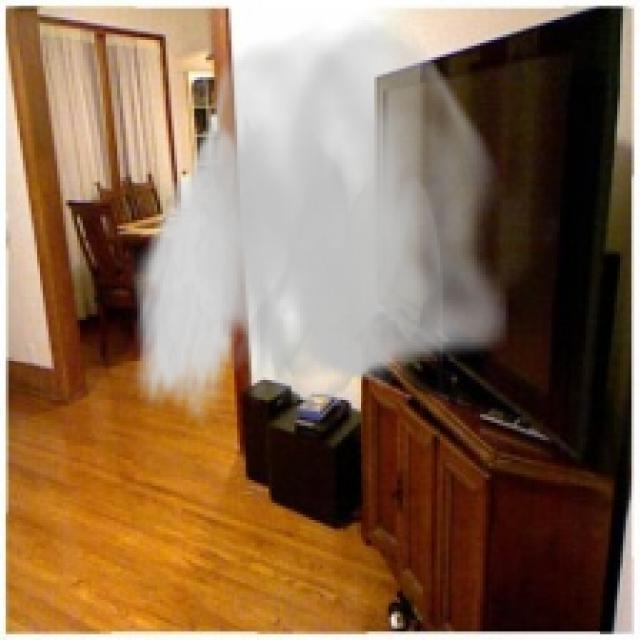Smoke: (128, 9, 508, 428)
